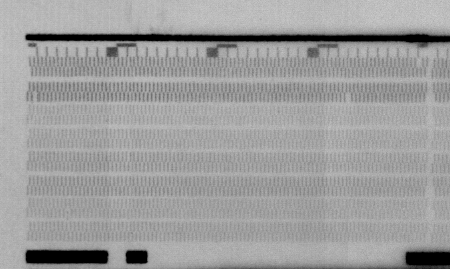Broken hole: (343, 93, 355, 105), (414, 56, 425, 68)
Oblique printing: (30, 92, 42, 103)
